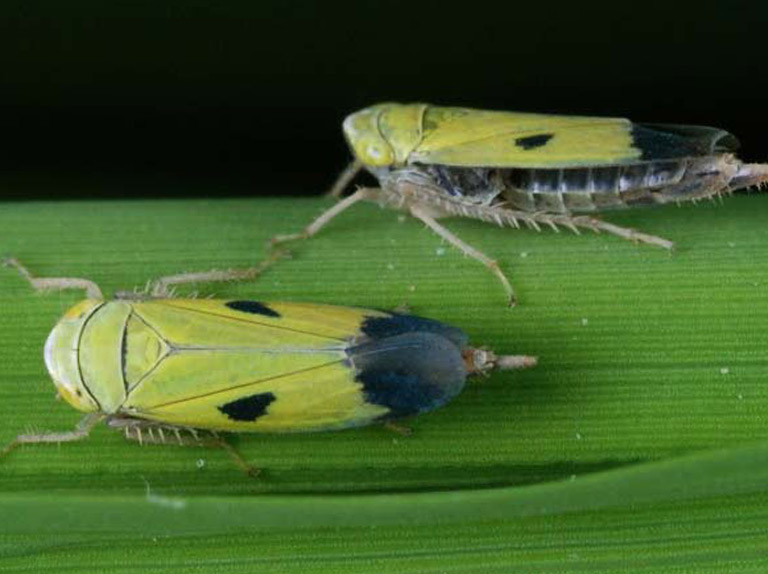Brown_plant_leafhopper: (42, 289, 478, 435), (344, 102, 747, 241)
